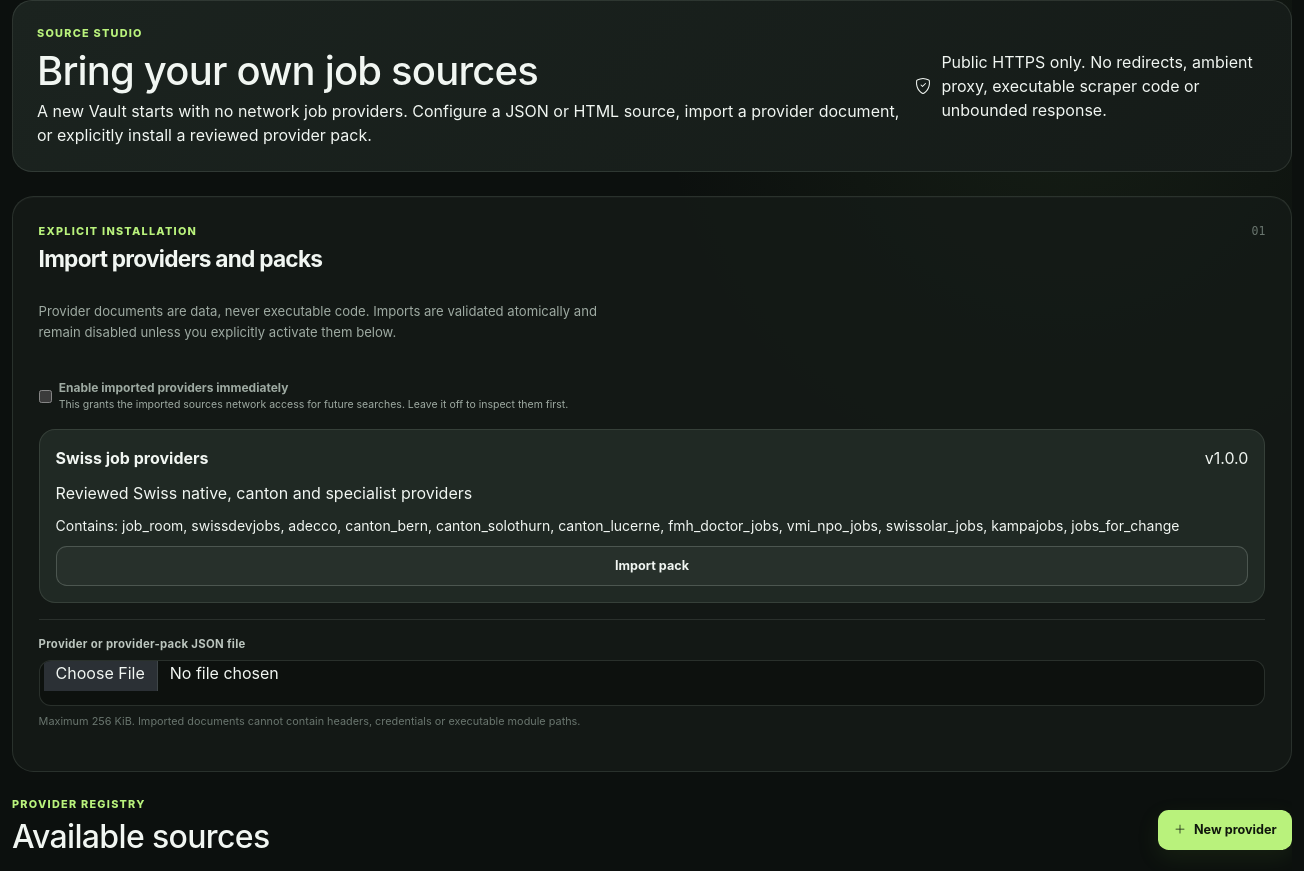
Test: ProvidersPage › imports a pack disabled unless activation is explicitly selected
What coordinates should you click on to do the following:
click the button "Import pack"
I would click on:
 (652, 566)
Its box is [56, 546, 1248, 586].
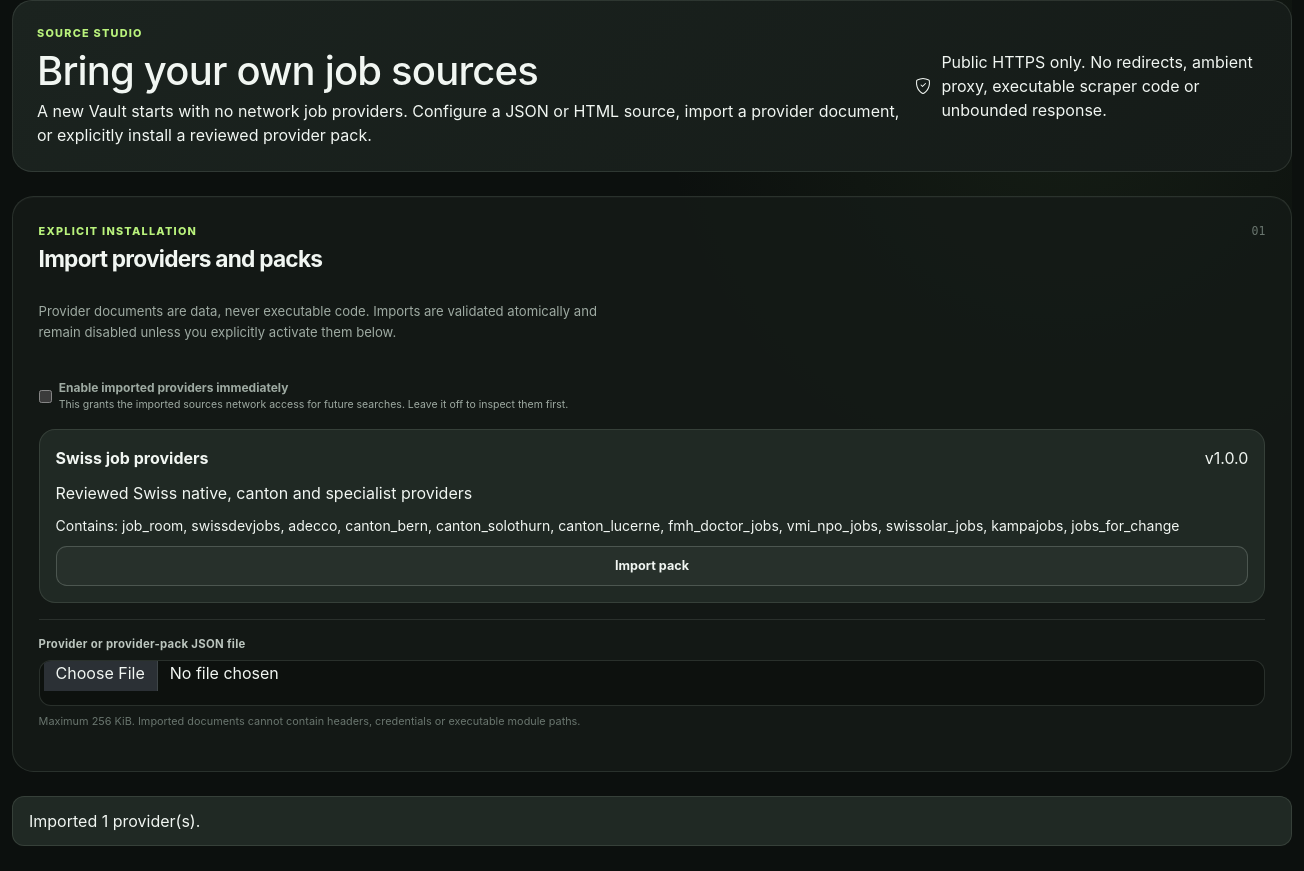
Expected: the text "Imported 1 provider(s)." is shown, [12, 796, 1292, 846]
